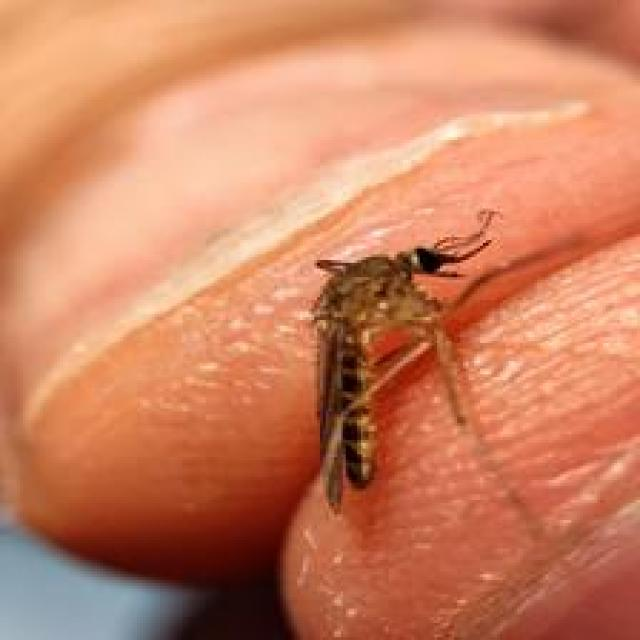Culex: (306, 206, 503, 514)
